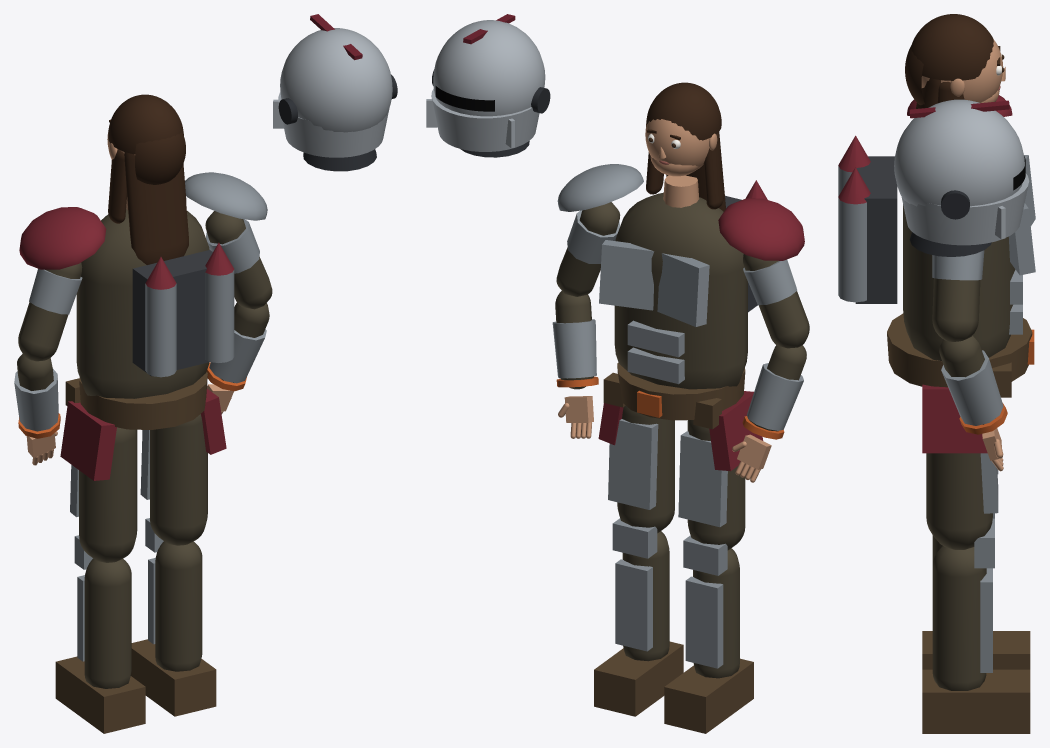
File: hunter.glb
3 renders of one model, left to right at view 1: azimuth 30°, elevation 25°; view 2: azimuth 150°, elevation 25°; view 3: azimuth 270°, elevation 25°, orthographic. The views are drawn at different scales.
Parts seen in each view (by area): view 1: Spine, Helmet, Head, Knee_L, Knee_R, Body, Hip_R, Hip_L, UpperArm_L, UpperArm_R, Jetpack_L, Jetpack_R (+3 smaller); view 2: Spine, Helmet, Knee_L, Knee_R, Body, Head, Hip_R, Hip_L, UpperArm_L, Forearm_L, Forearm_R, UpperArm_R (+2 smaller); view 3: Helmet, Knee_R, Spine, Head, Body, Hip_R, Forearm_R, UpperArm_R, Jetpack_R, Knee_L, Jetpack_L, Hand_R.
Part boxes in pixels (x1,y1,x2,y2): Spine: (19, 172, 267, 398); Helmet: (273, 14, 397, 171); Head: (107, 94, 188, 264); Knee_L: (55, 535, 145, 733); Knee_R: (130, 518, 216, 716); Body: (60, 372, 226, 480); Hip_R: (140, 414, 207, 545); Hip_L: (70, 427, 137, 562); UpperArm_L: (18, 262, 82, 361); UpperArm_R: (205, 211, 272, 309); Jetpack_L: (145, 257, 176, 377); Jetpack_R: (205, 242, 234, 362); Spine: (557, 164, 804, 389); Helmet: (426, 14, 550, 157); Knee_L: (664, 535, 753, 733); Knee_R: (594, 518, 683, 716); Body: (598, 362, 763, 471); Head: (645, 82, 725, 211); Hip_R: (608, 405, 674, 533); Hip_L: (678, 420, 745, 550); UpperArm_L: (743, 254, 809, 348); Forearm_L: (742, 345, 806, 439); Forearm_R: (552, 291, 598, 389); UpperArm_R: (556, 202, 620, 296); Helmet: (894, 99, 1029, 256); Knee_R: (922, 518, 1030, 733); Spine: (855, 95, 1035, 360); Head: (905, 14, 1005, 108); Body: (887, 313, 1034, 453); Hip_R: (926, 453, 998, 549); Forearm_R: (939, 335, 1007, 434); UpperArm_R: (932, 250, 984, 341); Jetpack_R: (838, 167, 870, 302); Knee_L: (922, 513, 1030, 669); Jetpack_L: (838, 135, 870, 195); Hand_R: (982, 428, 1003, 471).
Size of the model in its own units: 1.15 by 1.87 by 0.4752.
